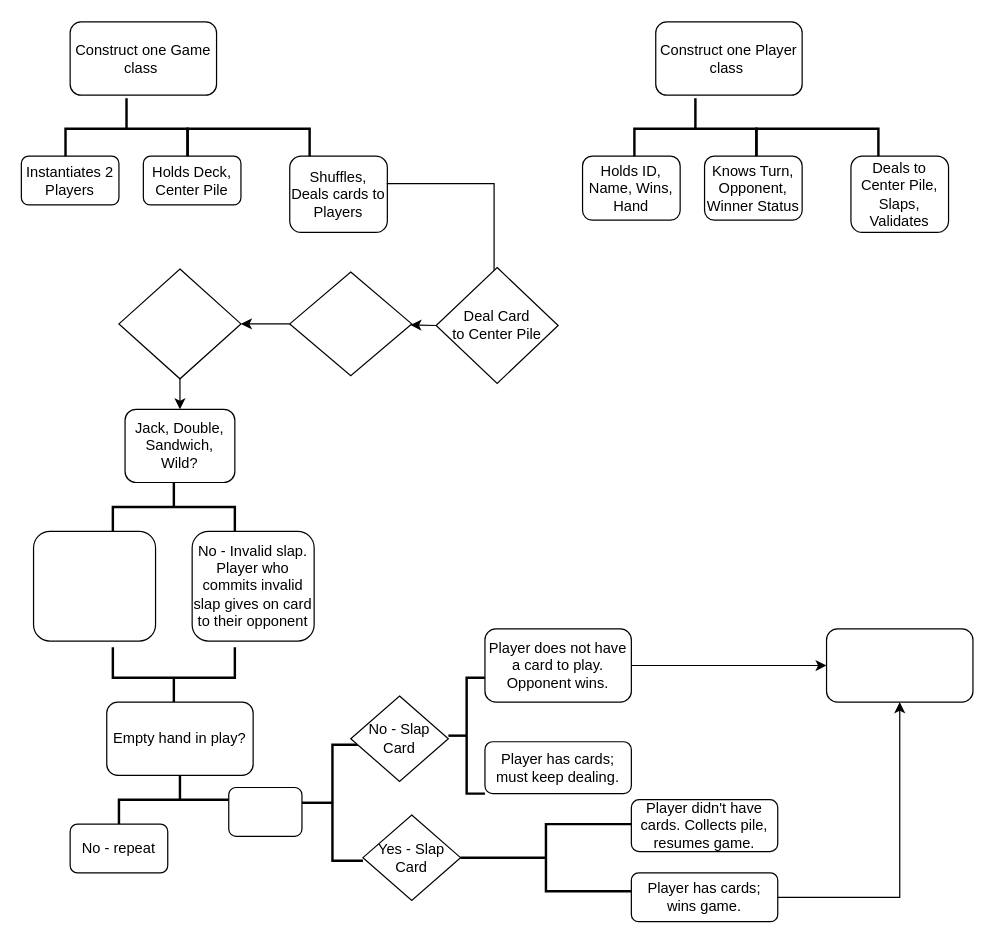
This 994x943 diagram has some shape labels left out. Here are the shapes that lost their labels. From the top down, the centre of each, then its label:
pixel 179 323: Evaluate Slap
pixel 350 323: Slap Card
pixel 94 585: Yes - valid slap. Player who commits slap may collect the center pile.
pixel 899 665: Reset Game
pixel 265 811: Jack?
